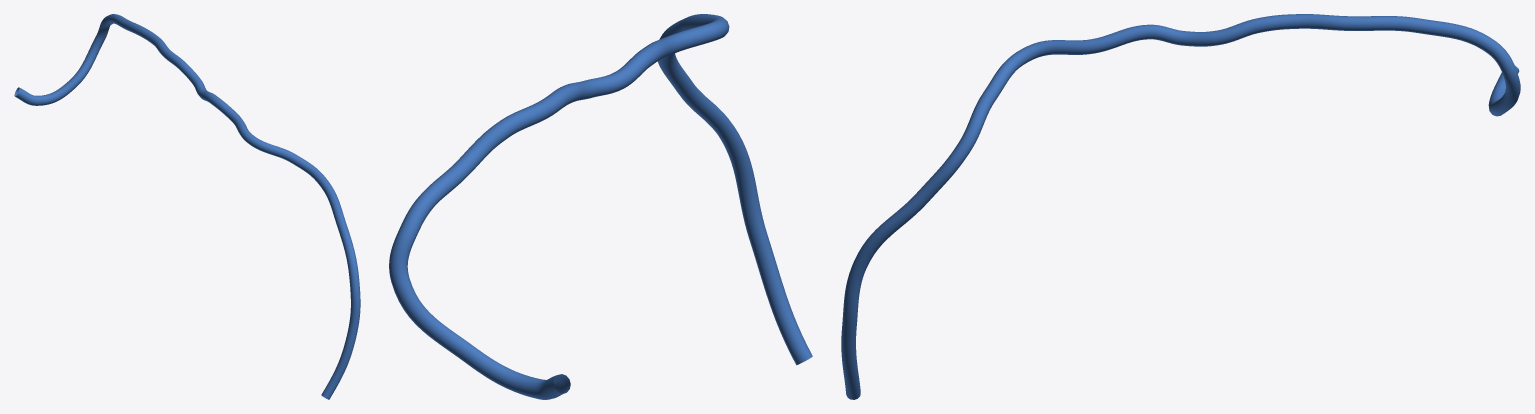
3 renders of one model, left to right at view 1: azimuth 30°, elevation 25°; view 2: azimuth 150°, elevation 25°; view 3: azimuth 270°, elevation 25°, orthographic. The views are drawn at different scales.
Visible parts, largest first — view 1: 副半奇静脉; view 2: 副半奇静脉; view 3: 副半奇静脉.
Part boxes in pixels (x1,y1,x2,y2): 副半奇静脉: (14,14,360,399); 副半奇静脉: (389,14,812,399); 副半奇静脉: (841,14,1520,399).
Size of the model in its own units: 0.0675 by 0.1157 by 0.1899.
